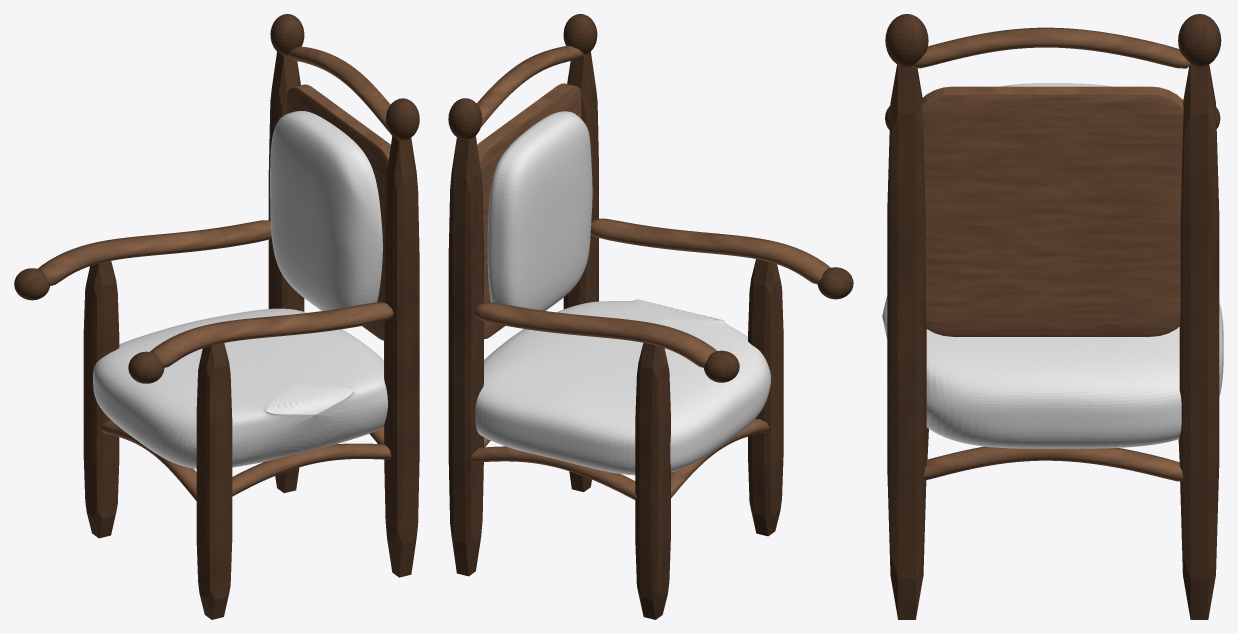
Rendered from old_style_chair.fbx.
3 renders of one model, left to right at view 1: azimuth 30°, elevation 25°; view 2: azimuth 150°, elevation 25°; view 3: azimuth 270°, elevation 25°, orthographic. The views are drawn at different scales.
Visible parts, largest first — view 1: BezierCurve.007; view 2: BezierCurve.007; view 3: BezierCurve.007.
Part boxes in pixels (<box>): BezierCurve.007: <box>14,14,419,619</box>; BezierCurve.007: <box>448,14,853,619</box>; BezierCurve.007: <box>882,14,1223,619</box>.
Bounding box in the file's own units: 435 × 672 × 346.
1 material, 1 textured.
